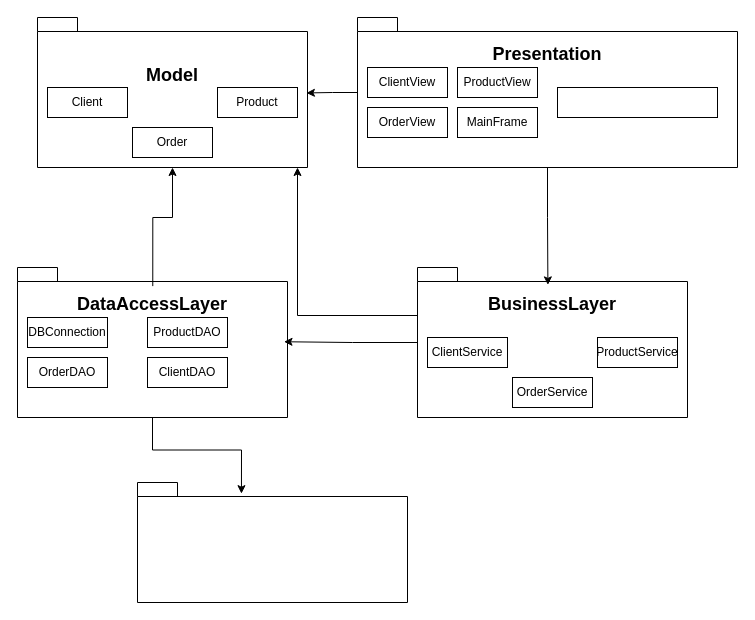
This 755x620 diagram has some shape labels left out. The centre of each missing label's shape, as x and y in pixels:
"MySQL" belongs at pixel 272 542.
"ReflectionTableGenerator" belongs at pixel 637 102.
